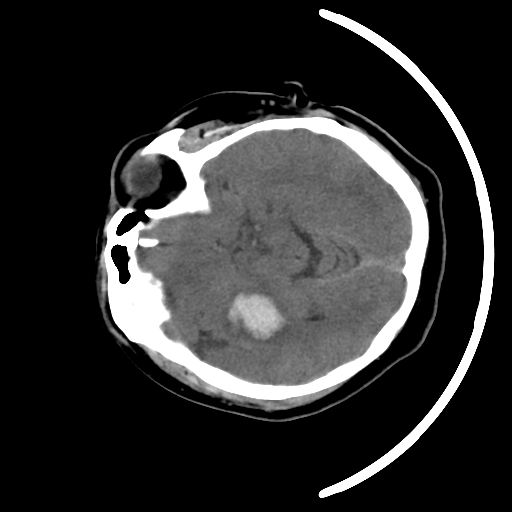a: (210, 276, 304, 358)
